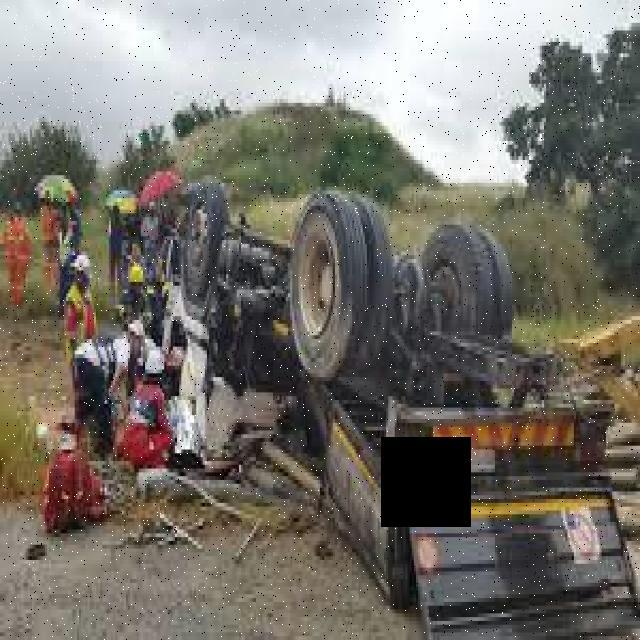severe: (132, 171, 638, 621)
